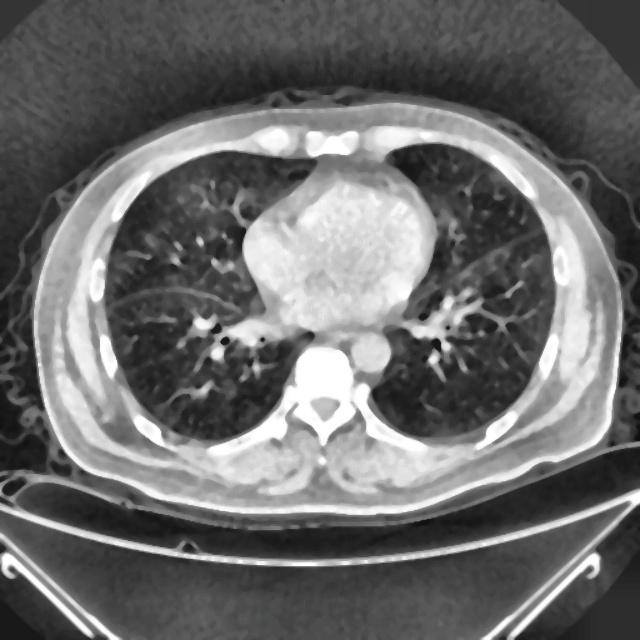covid: (31, 88, 625, 529)
